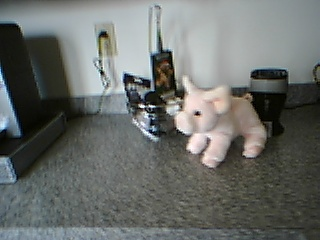piggy: (174, 74, 267, 168)
